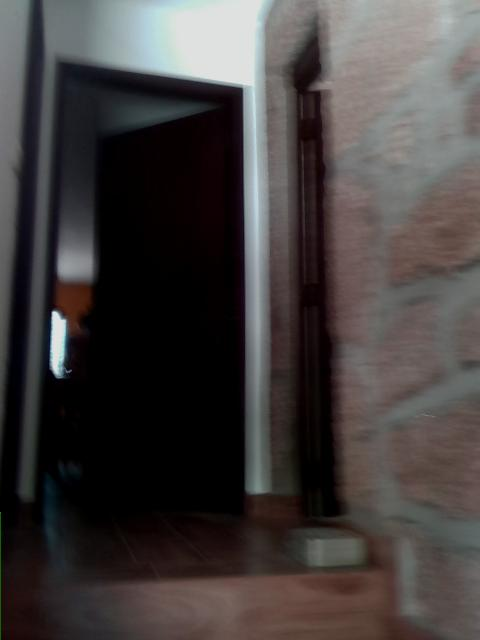semi_door: (38, 55, 255, 519)
